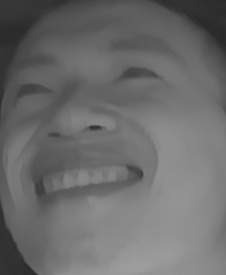eye: (110, 61, 167, 92), (9, 77, 56, 107)
mouth: (34, 157, 146, 209)
